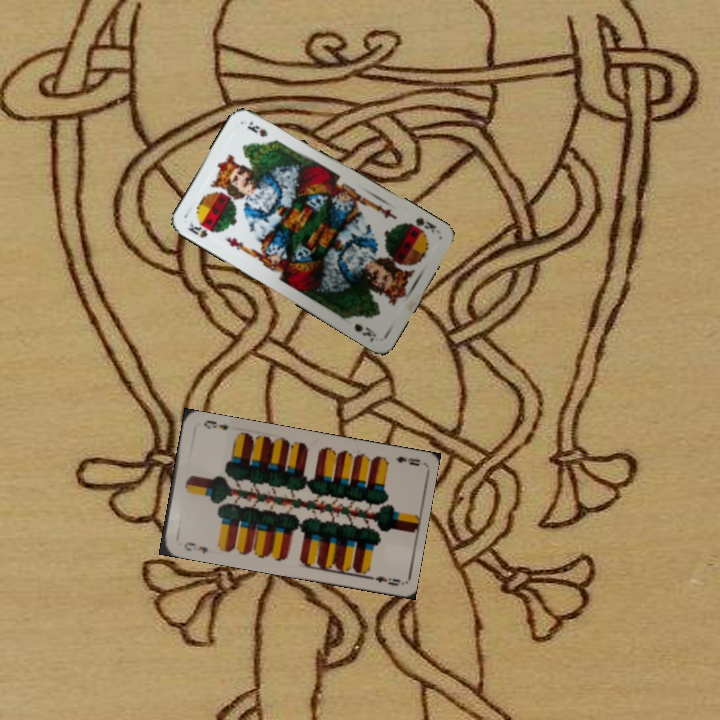E9: (180, 538, 210, 556), (392, 452, 422, 469)
SK: (411, 213, 443, 236), (184, 217, 210, 241)
